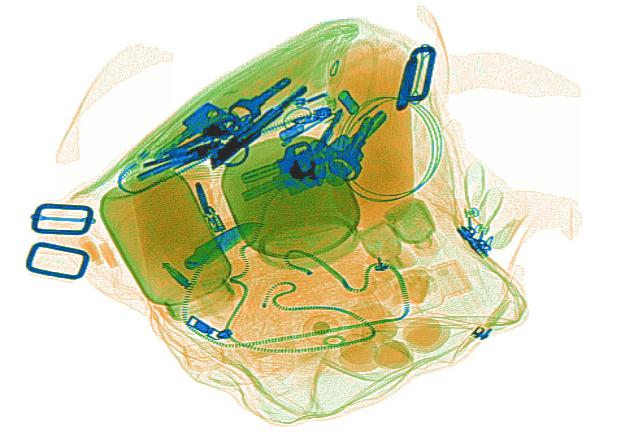knife: (181, 215, 267, 275)
